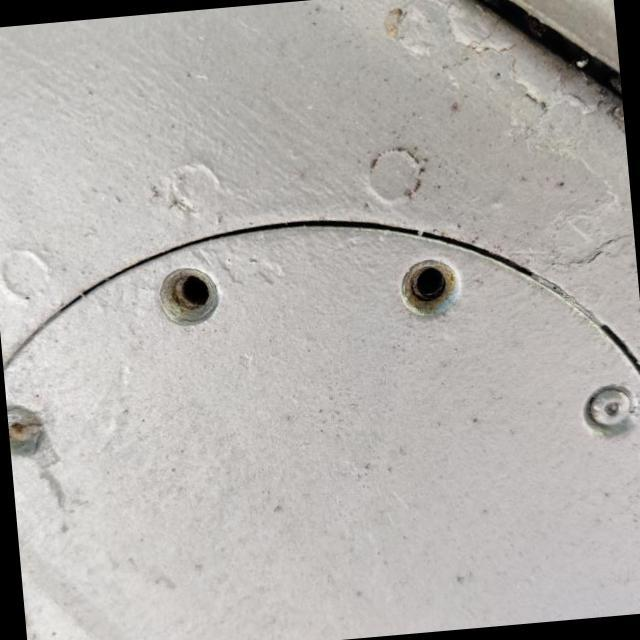Fastener Damage: (369, 210, 506, 356), (123, 226, 255, 366)
